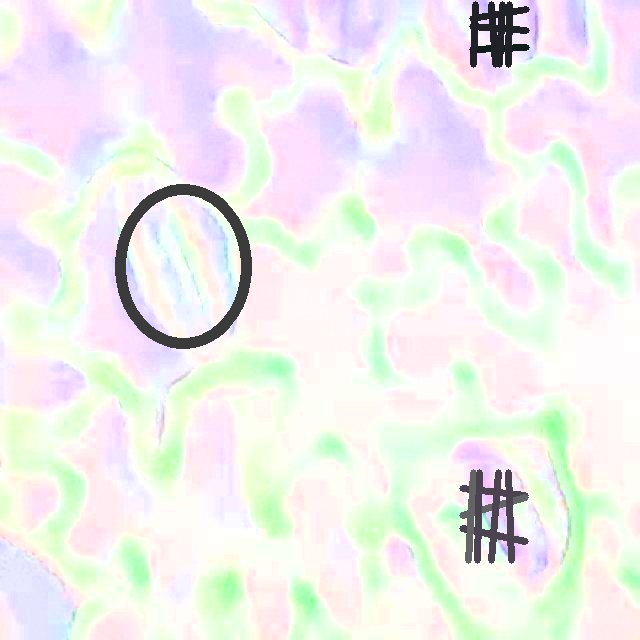open: (116, 184, 251, 349), (459, 469, 528, 563), (470, 2, 528, 66)
